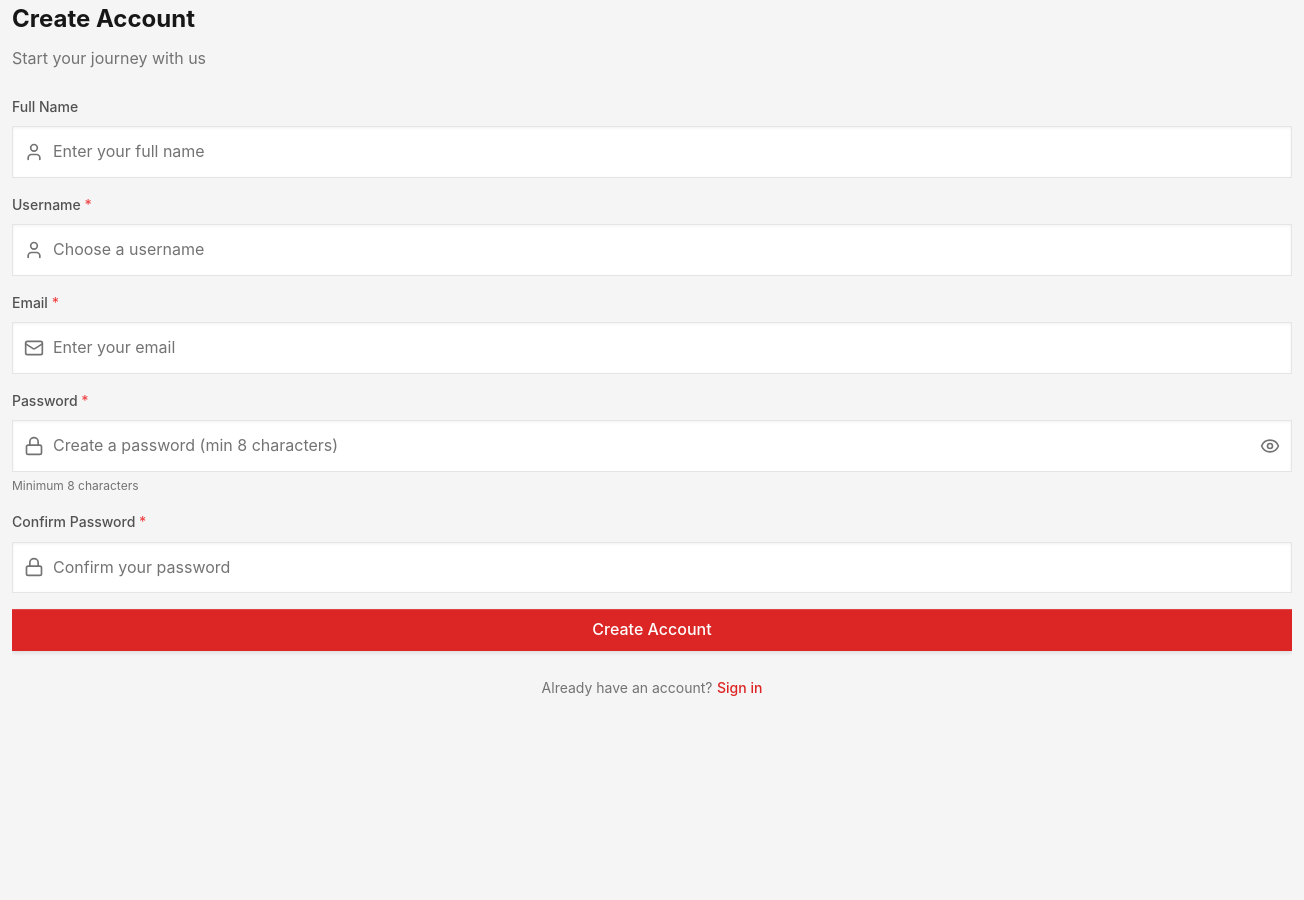
RegisterPage › validation › shows error when password is too short
The image size is (1304, 900).
Type "johndoe" into the field with placeholder "Choose a username" at point(652, 250), box [12,224,1292,276]
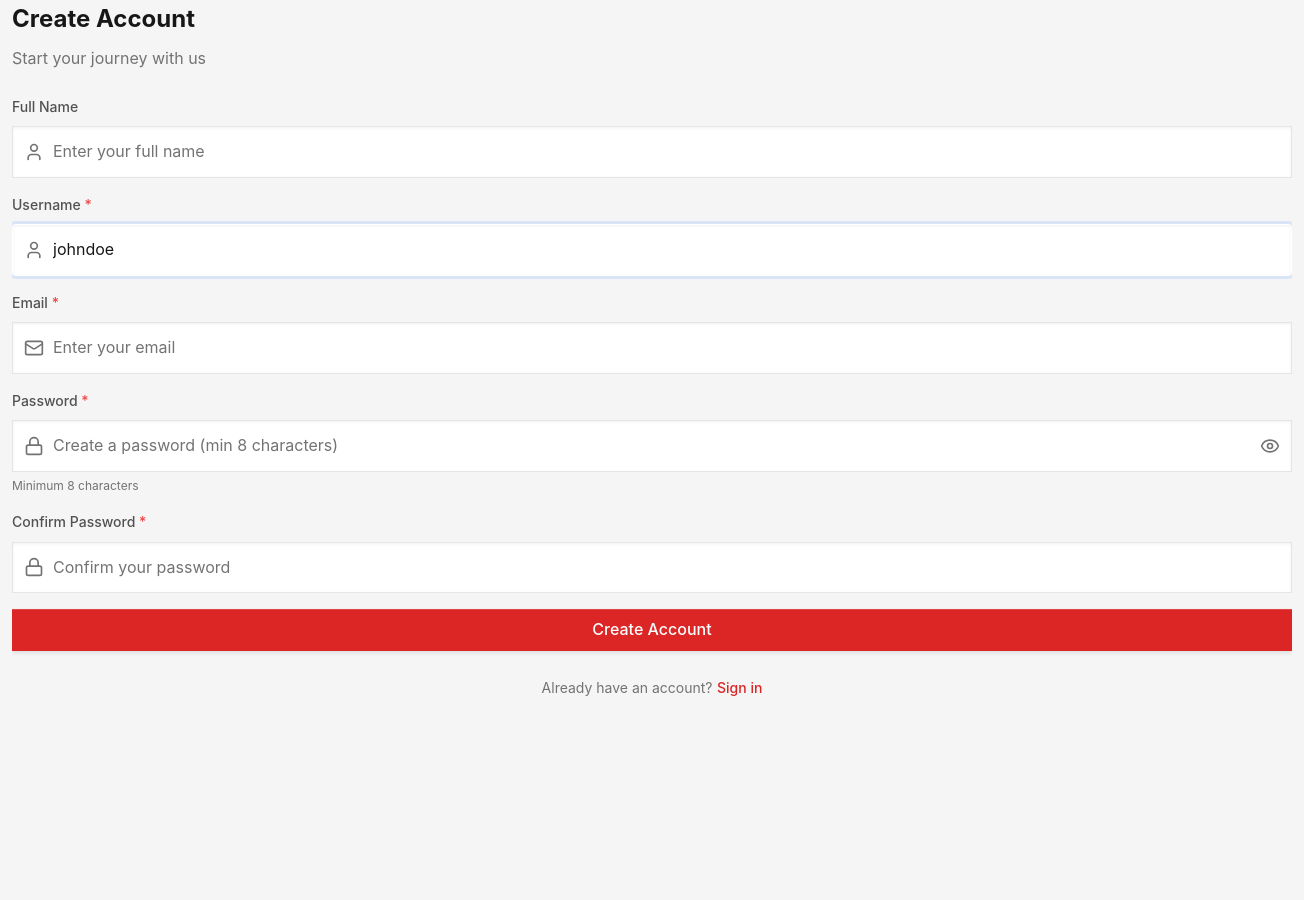
Type "john@example.com" into the field with placeholder "Enter your email" at point(652, 348), box [12,322,1292,374]
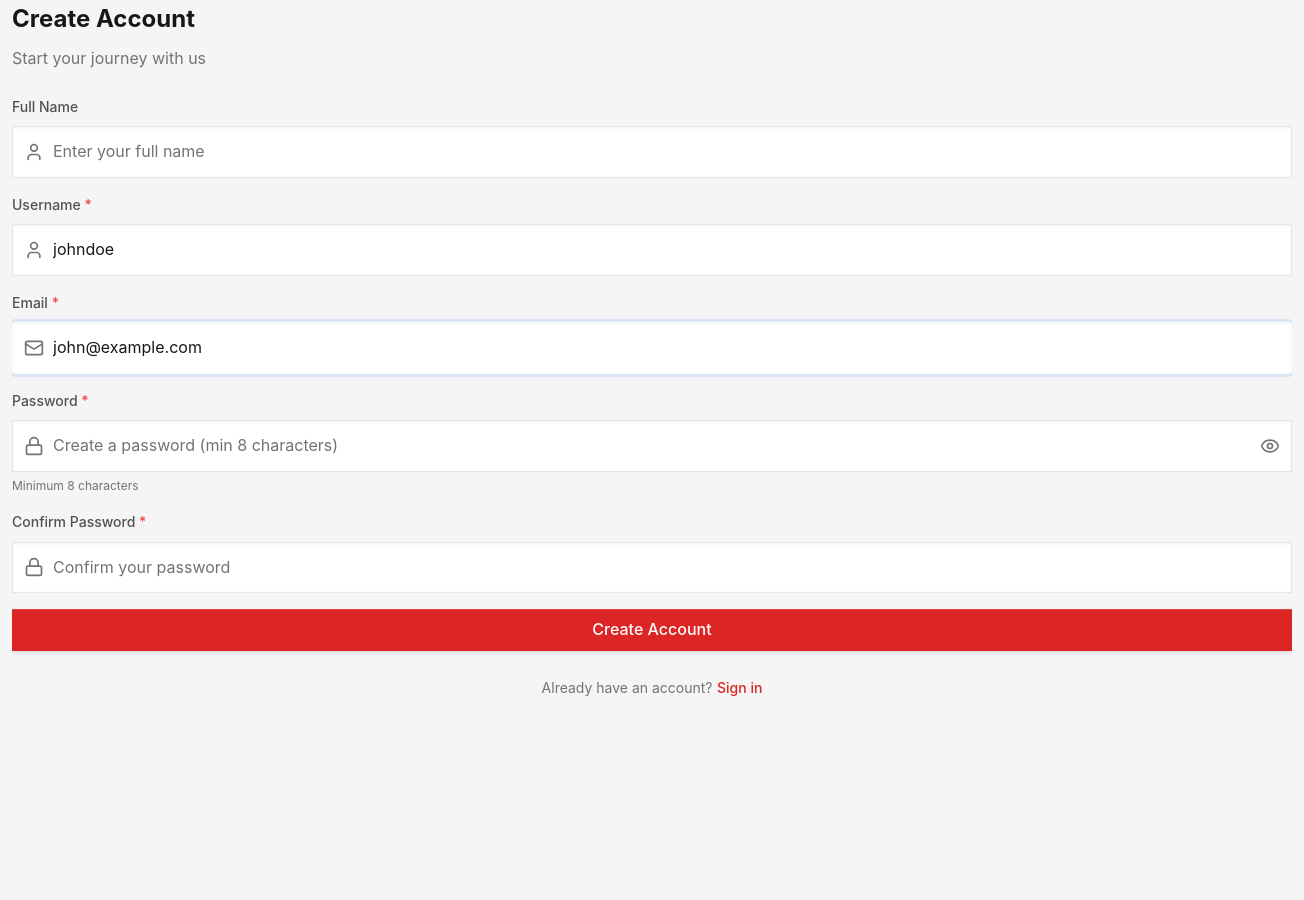
Type "short" into the password field with placeholder "Create a password (min 8 characters)" at point(652, 446), box [12,420,1292,472]
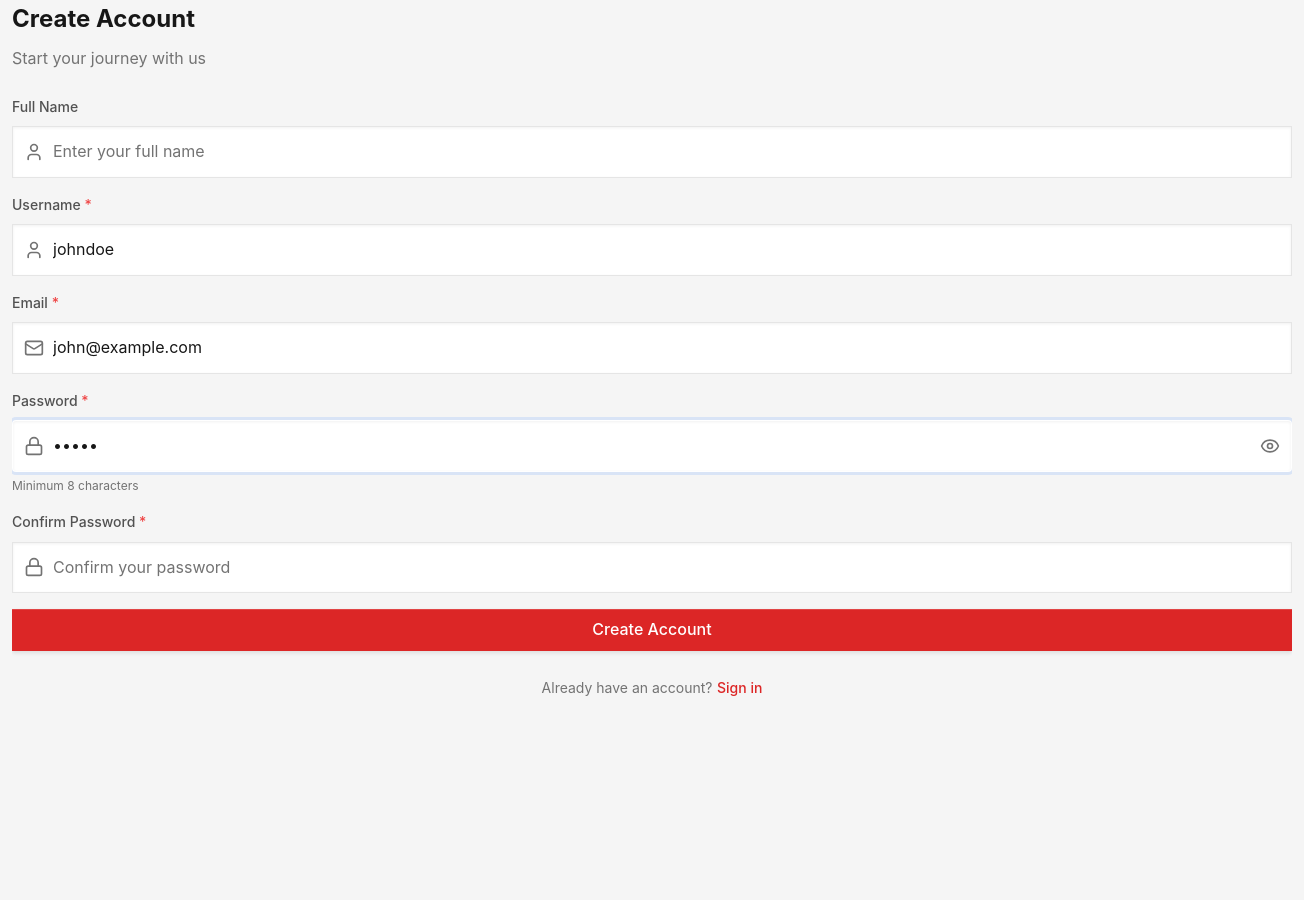
Type "short" into the password field with placeholder "Confirm your password" at point(652, 567), box [12,542,1292,593]
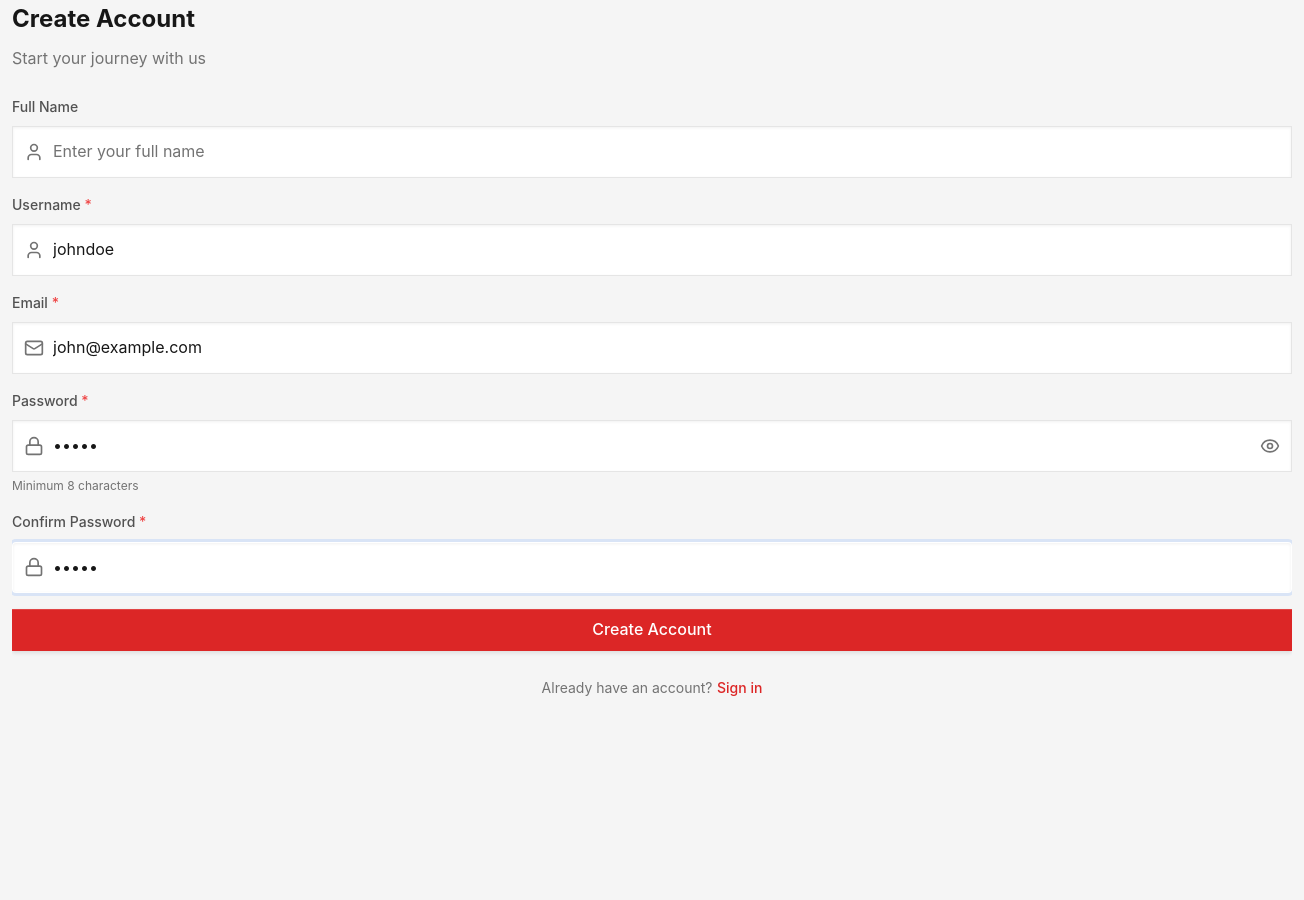
Click the button "Create Account" at point(652, 630), box [12,609,1292,651]
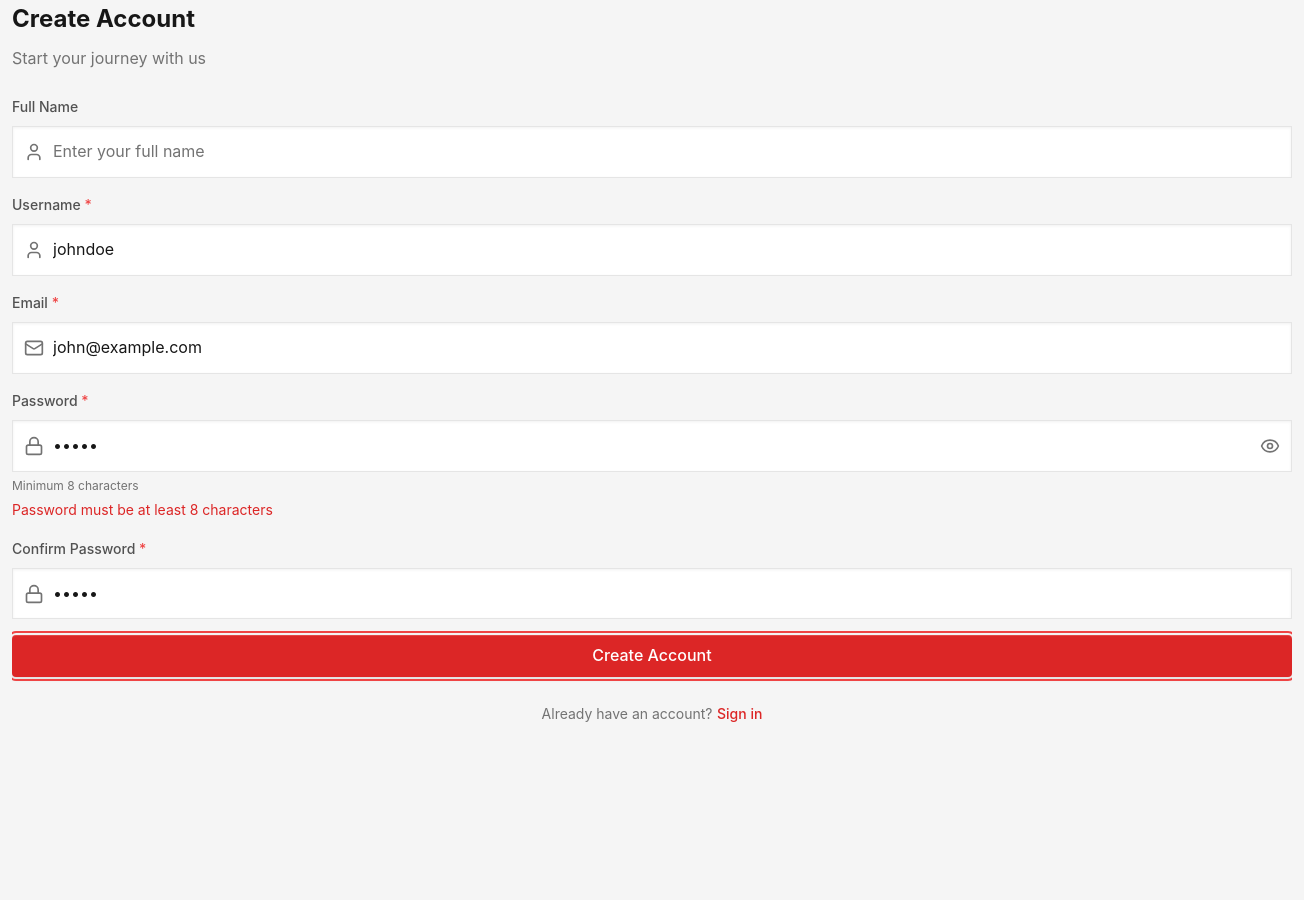
Result: the text "Password must be at least 8 characters" is shown at [12,501,273,518]
